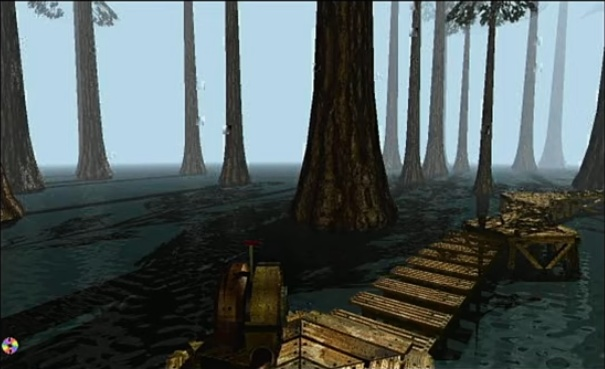Waiting: (0, 332, 24, 356)
